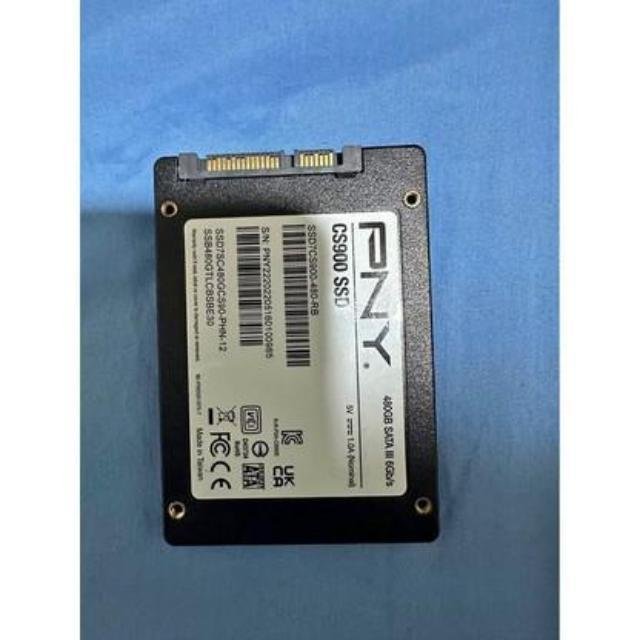DISK: (146, 143, 448, 548)
